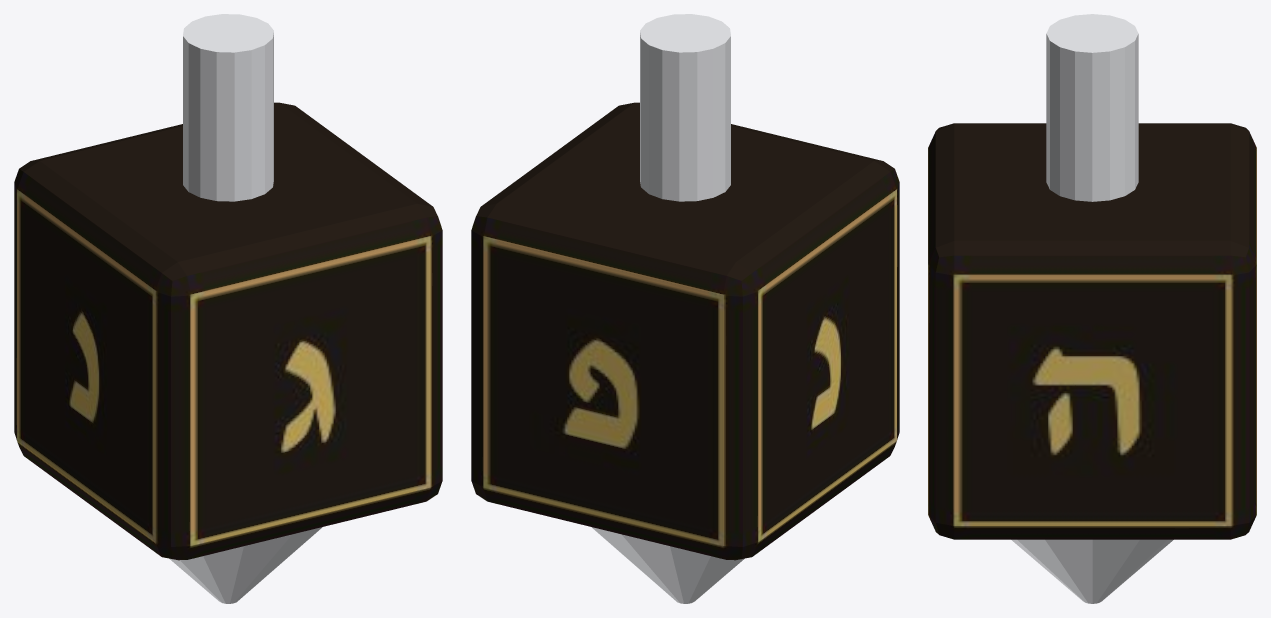
The model's file is dreidel_v2.glb.
The picture shows the model from 3 angles, left to right: view 1: azimuth 30°, elevation 25°; view 2: azimuth 150°, elevation 25°; view 3: azimuth 270°, elevation 25°; orthographic projection.
Parts seen in each view (by area): view 1: DreidelGLB, DreidelGLB_Stem, Cone; view 2: DreidelGLB, DreidelGLB_Stem, Cone; view 3: DreidelGLB, DreidelGLB_Stem, Cone.
Part boxes in pixels (bbox=[...]): DreidelGLB: bbox=[14, 102, 442, 560]; DreidelGLB_Stem: bbox=[183, 14, 273, 201]; Cone: bbox=[169, 527, 322, 603]; DreidelGLB: bbox=[471, 102, 899, 560]; DreidelGLB_Stem: bbox=[640, 14, 730, 201]; Cone: bbox=[591, 527, 744, 603]; DreidelGLB: bbox=[928, 123, 1256, 539]; DreidelGLB_Stem: bbox=[1046, 14, 1138, 201]; Cone: bbox=[1011, 539, 1173, 603].
Size of the model in its own units: 0.064 by 0.1216 by 0.064.
2 materials, 1 textured.
